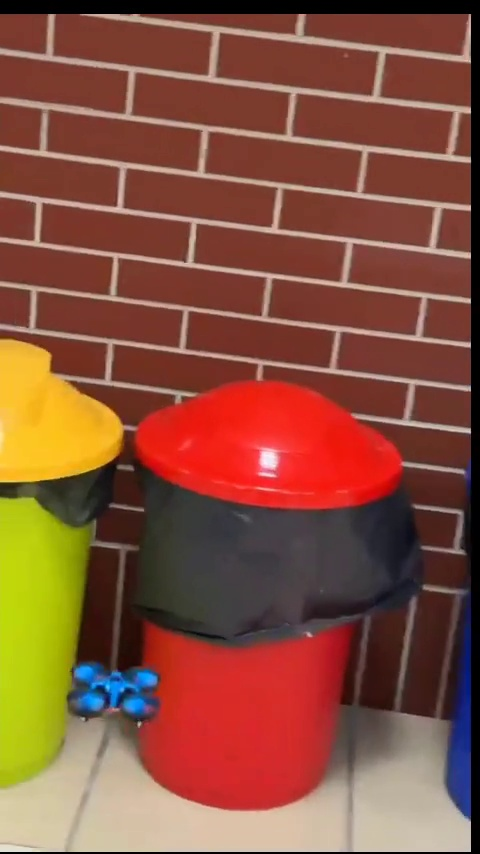drone: (68, 661, 166, 725)
